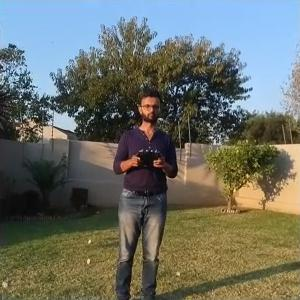follow: (109, 84, 184, 298)
